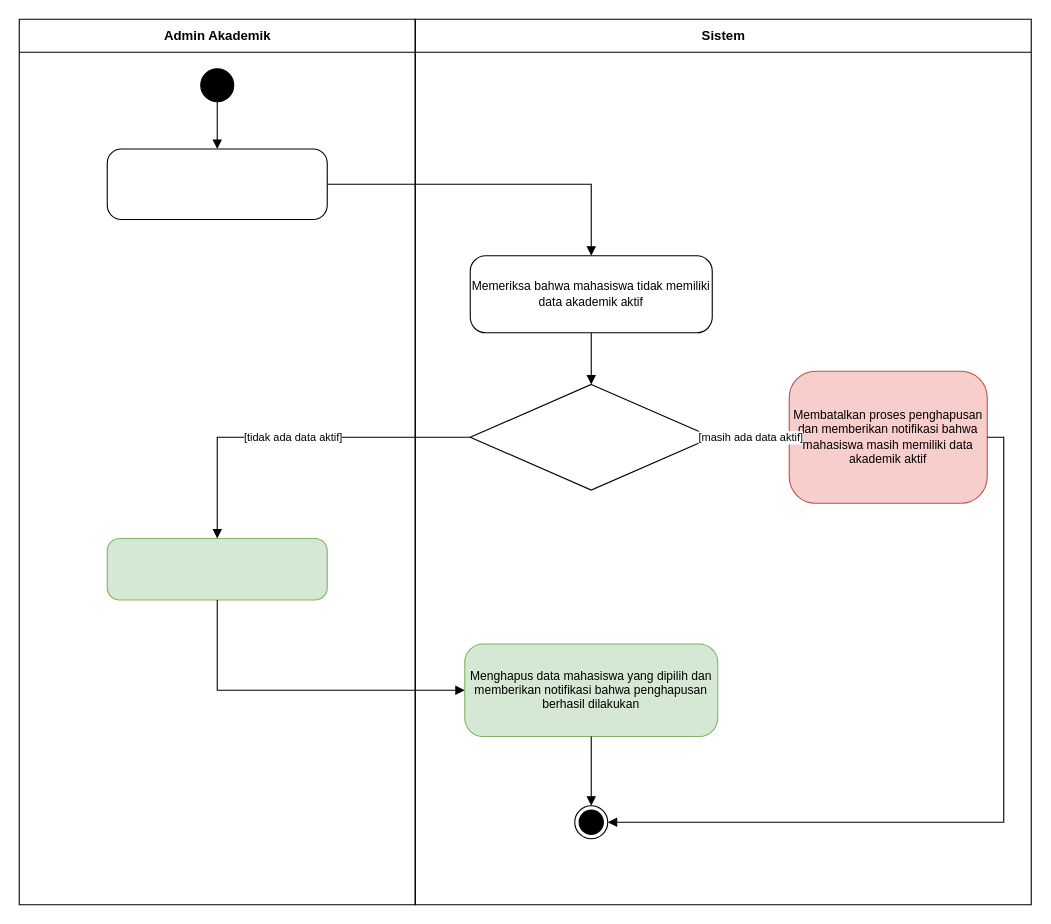
This 1051x924 diagram has some shape labels left out. Each missing label, with the box of its shape:
Mahasiswa memiliki data akademik aktif?: (469, 383, 712, 490)
Menentukan data mahasiswa yang ingin dihapus: (106, 148, 327, 219)
Mengonfirmasi penghapusan: (106, 537, 327, 600)
